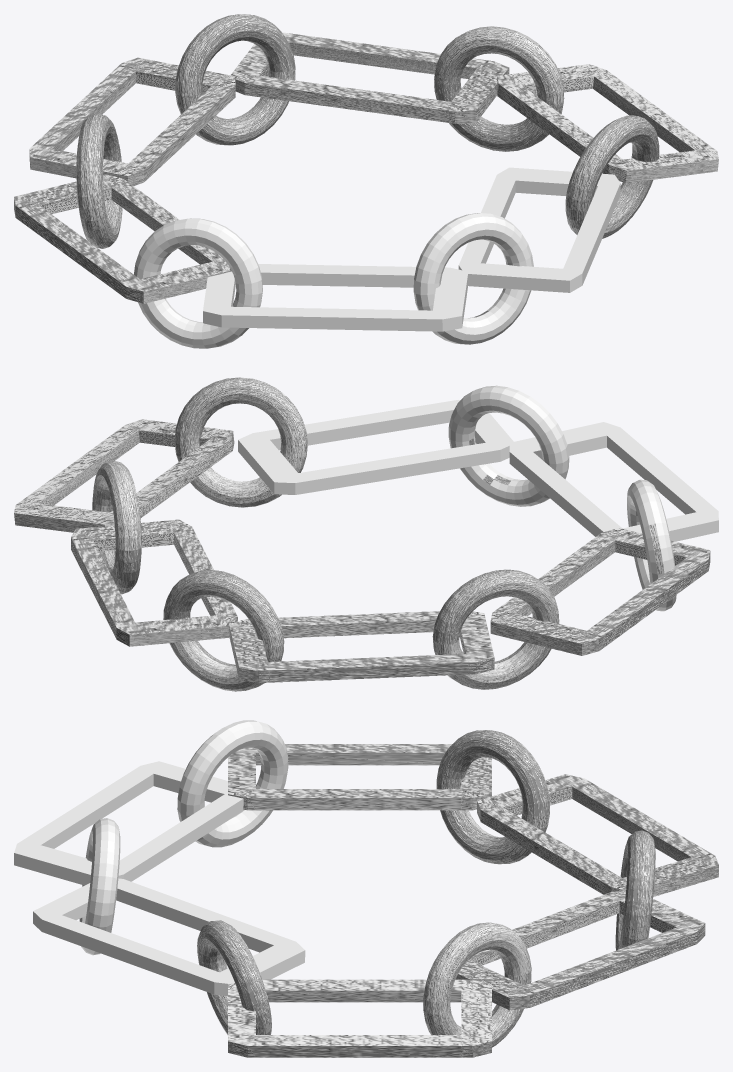
Rendered from pulseraplata1.glb.
3 renders of one model, top to bottom at view 1: azimuth 30°, elevation 25°; view 2: azimuth 150°, elevation 25°; view 3: azimuth 270°, elevation 25°, orthographic. The views are drawn at different scales.
Parts seen in each view (by area): view 1: Toroide.004, Cubo.002, Cubo, Cubo.001, Cubo.003, Toroide.002, Toroide.003, Toroide.005, Toroide.001; view 2: Toroide.004, Cubo.001, Cubo, Cubo.003, Cubo.002, Toroide.005, Toroide.001, Toroide.002, Toroide.003; view 3: Toroide.004, Cubo.003, Cubo, Cubo.001, Cubo.002, Toroide.001, Toroide.003, Toroide.005, Toroide.002.
Part boxes in pixels (bbox=[...]): Toroide.004: bbox=[134, 167, 620, 348]; Cubo.002: bbox=[230, 32, 509, 123]; Cubo: bbox=[14, 174, 231, 303]; Cubo.001: bbox=[29, 57, 235, 185]; Cubo.003: bbox=[496, 64, 718, 183]; Toroide.002: bbox=[175, 14, 295, 145]; Toroide.003: bbox=[434, 26, 564, 151]; Toroide.005: bbox=[565, 115, 659, 238]; Toroide.001: bbox=[76, 113, 122, 248]; Toroide.004: bbox=[238, 385, 718, 611]; Cubo.001: bbox=[229, 611, 494, 682]; Cubo: bbox=[490, 528, 710, 655]; Cubo.003: bbox=[14, 419, 234, 532]; Cubo.002: bbox=[71, 519, 237, 646]; Toroide.005: bbox=[174, 377, 307, 507]; Toroide.001: bbox=[432, 569, 559, 689]; Toroide.002: bbox=[163, 570, 284, 691]; Toroide.003: bbox=[92, 460, 141, 594]; Toroide.004: bbox=[14, 720, 305, 996]; Cubo.003: bbox=[228, 979, 491, 1057]; Cubo: bbox=[228, 744, 491, 810]; Cubo.001: bbox=[477, 774, 718, 896]; Cubo.002: bbox=[455, 890, 705, 1010]; Toroide.001: bbox=[436, 730, 549, 864]; Toroide.003: bbox=[423, 922, 531, 1047]; Toroide.005: bbox=[197, 920, 271, 1034]; Toroide.002: bbox=[615, 830, 655, 950].
Bounding box in the file's own units: 2.96 × 0.6037 × 3.01.
Materials: 2 (1 with a texture image).
